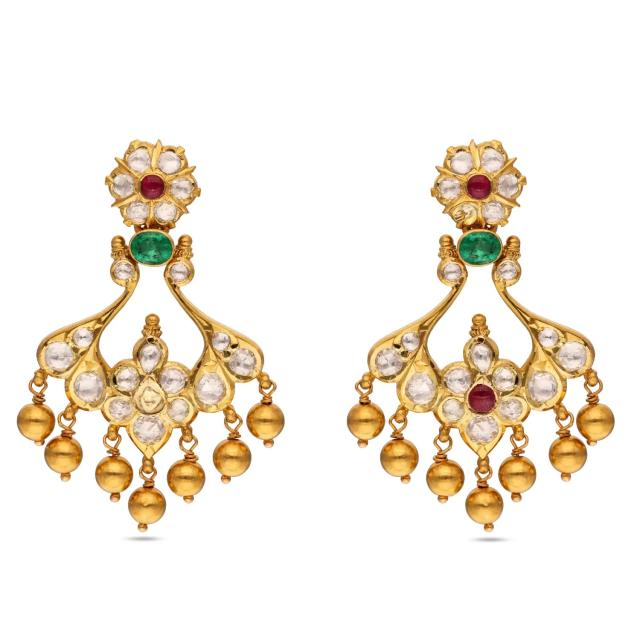missing gem: (137, 384, 163, 412), (454, 204, 477, 226)
